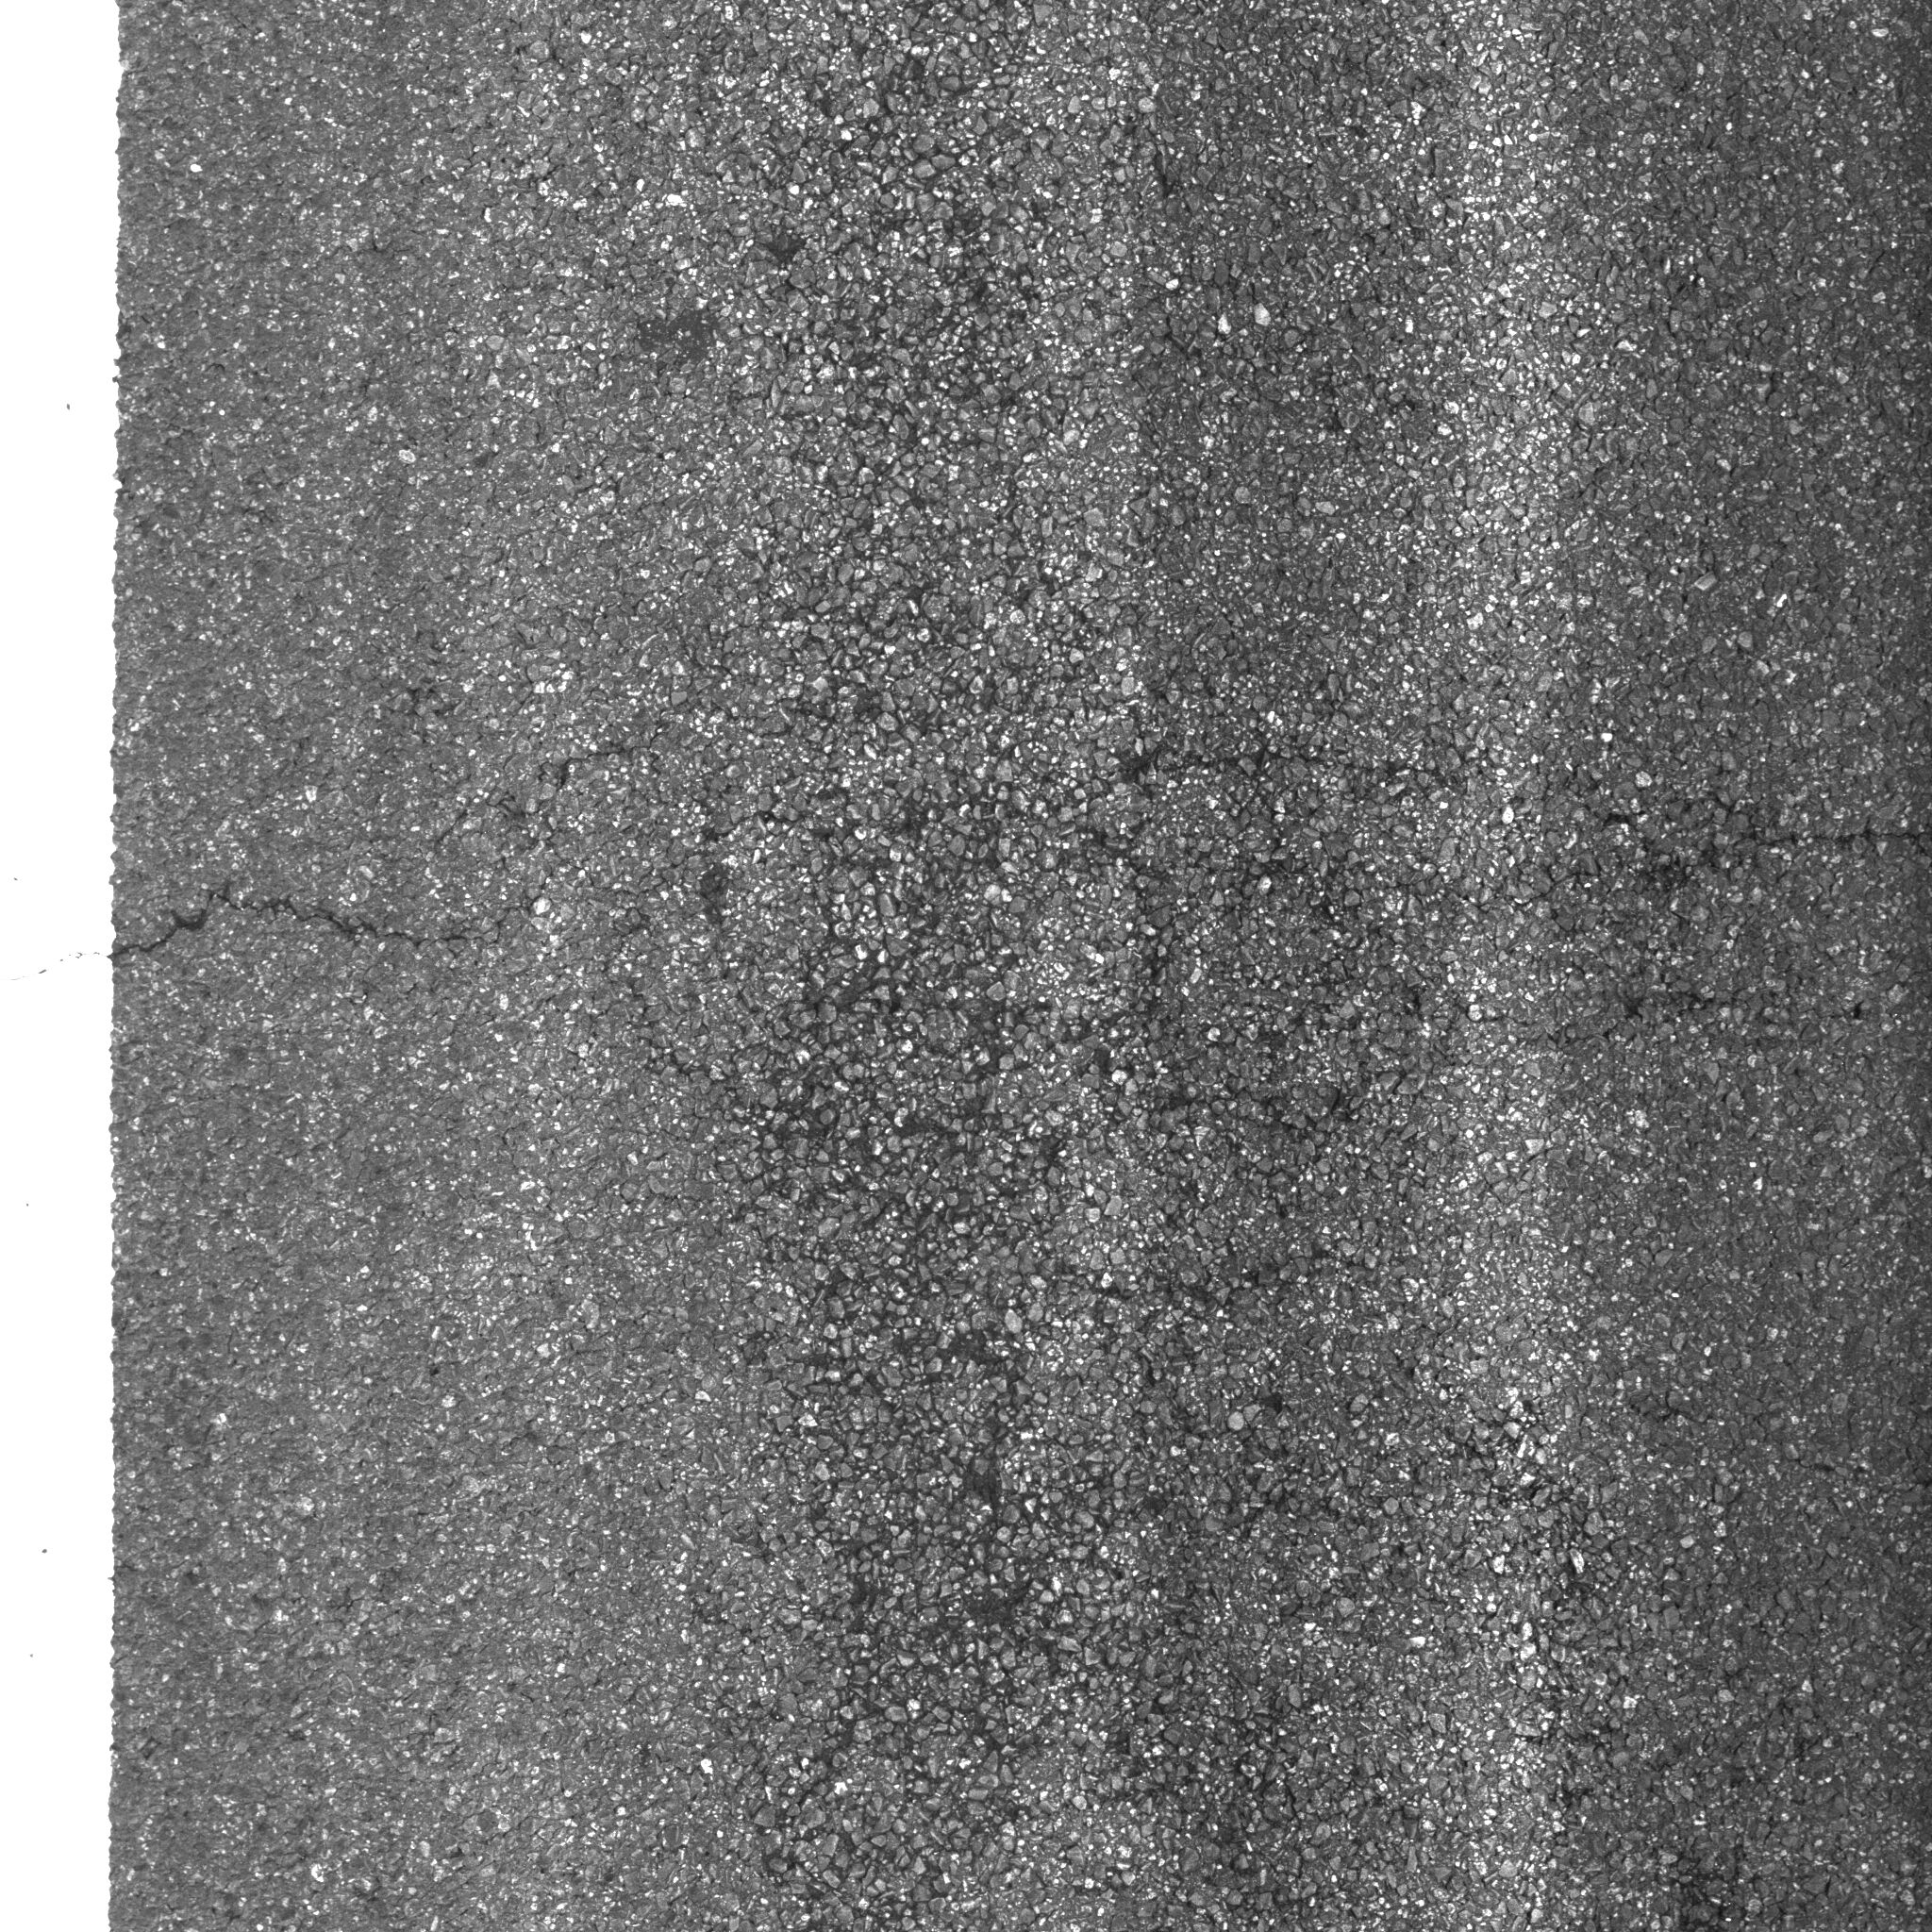transeverse: (103, 717, 1930, 1132)
